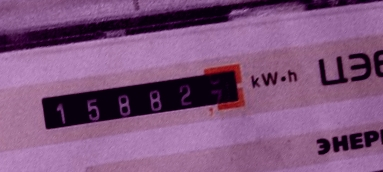1: (53, 99, 69, 127)
2: (176, 81, 195, 108)
5: (84, 96, 101, 123)
7: (208, 86, 225, 105)
8: (115, 91, 134, 118), (146, 87, 165, 113)
screen: (30, 57, 255, 144)
